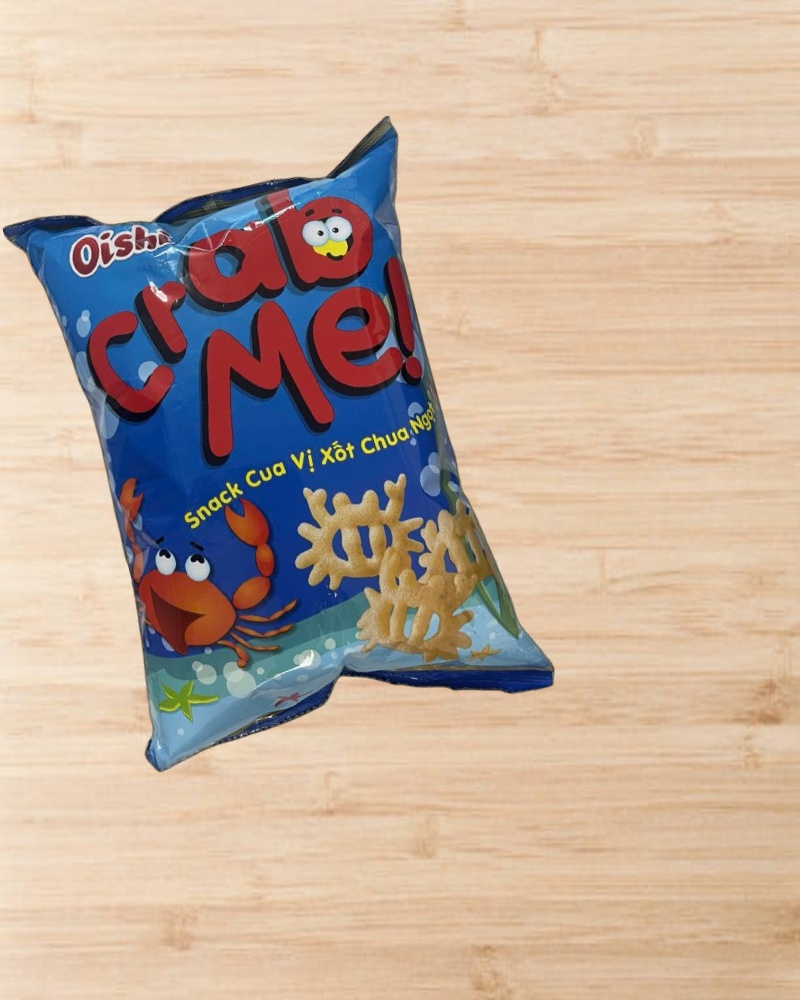Snack cua: (1, 112, 557, 786)
